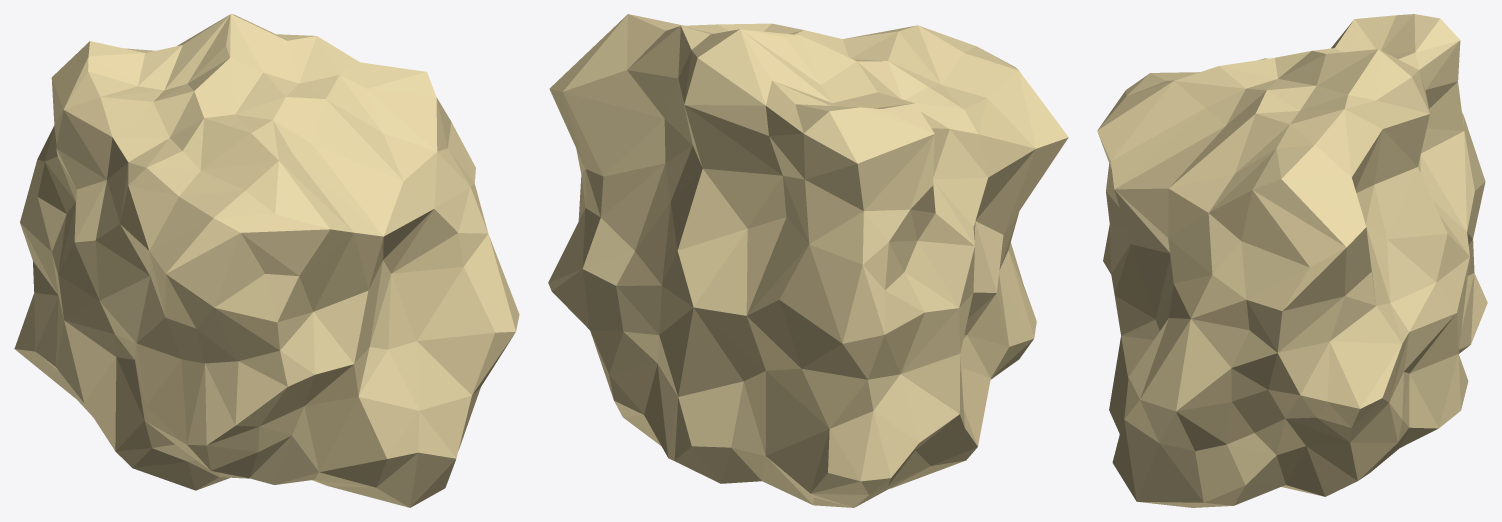
File: Asteroid (22).fbx
3 views of the same model, side by side, from view 1: azimuth 30°, elevation 25°; view 2: azimuth 150°, elevation 25°; view 3: azimuth 270°, elevation 25° (orthographic). The views are drawn at different scales.
Visible parts, largest first — view 1: Asteroid96; view 2: Asteroid96; view 3: Asteroid96.
Boxes of the visible parts, x1,y1,x2,y2 form: Asteroid96: (14, 14, 519, 507); Asteroid96: (548, 14, 1068, 507); Asteroid96: (1097, 14, 1487, 507).
Bounding box in the file's own units: 290 × 307 × 258.
